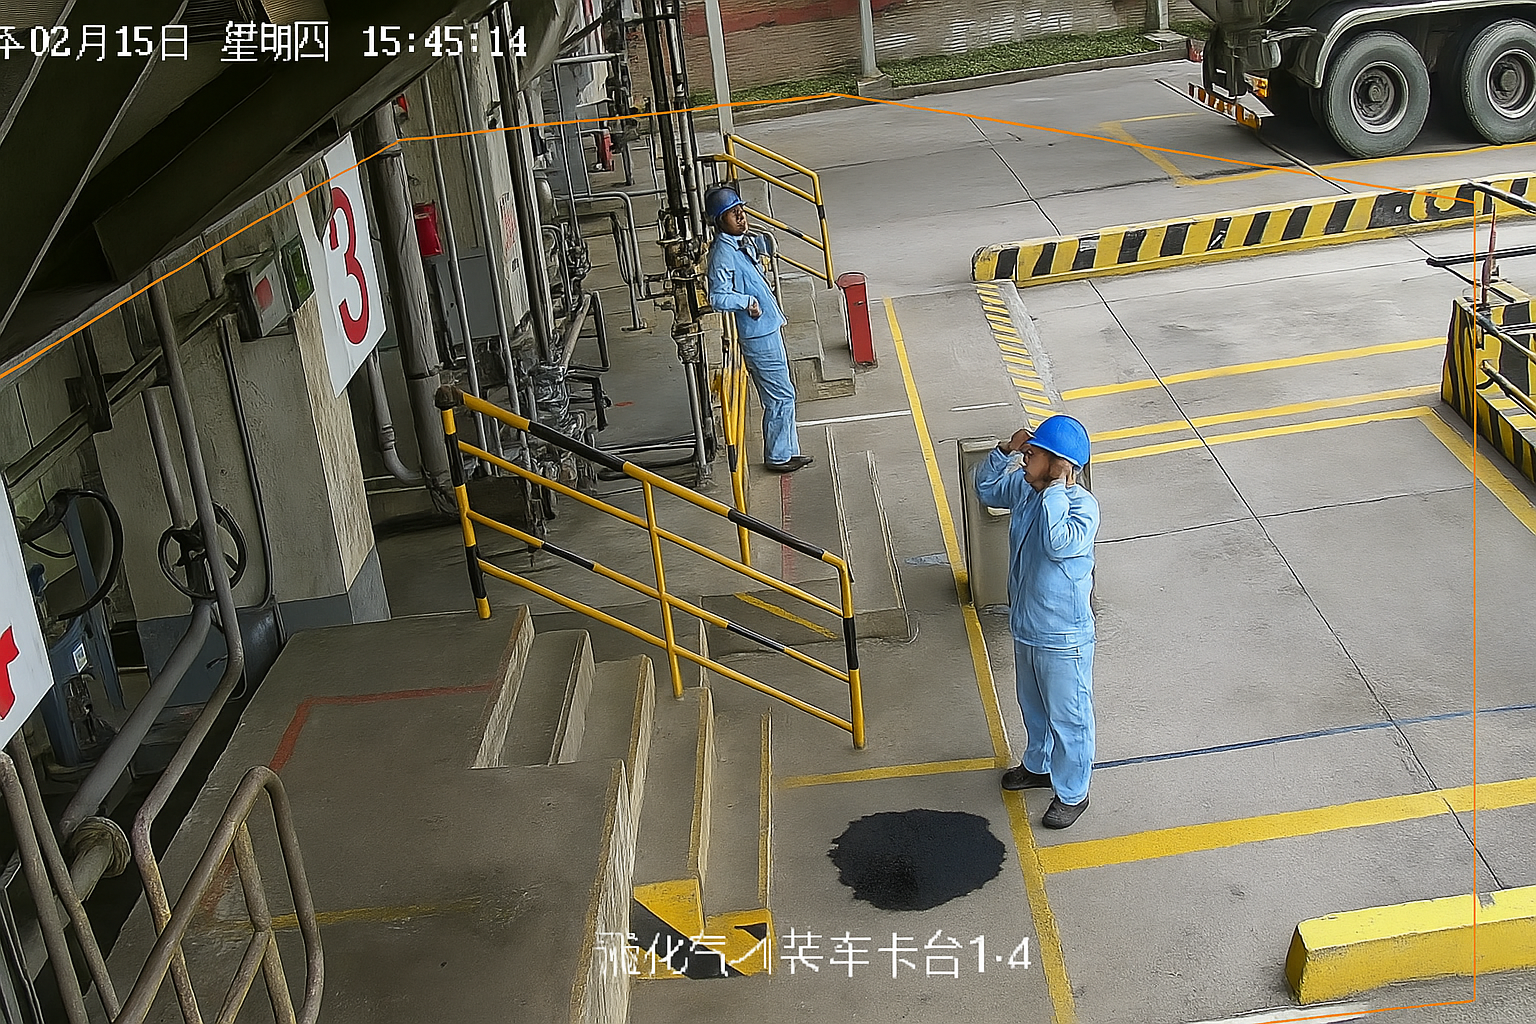oil_leakage: (816, 791, 1017, 922)
